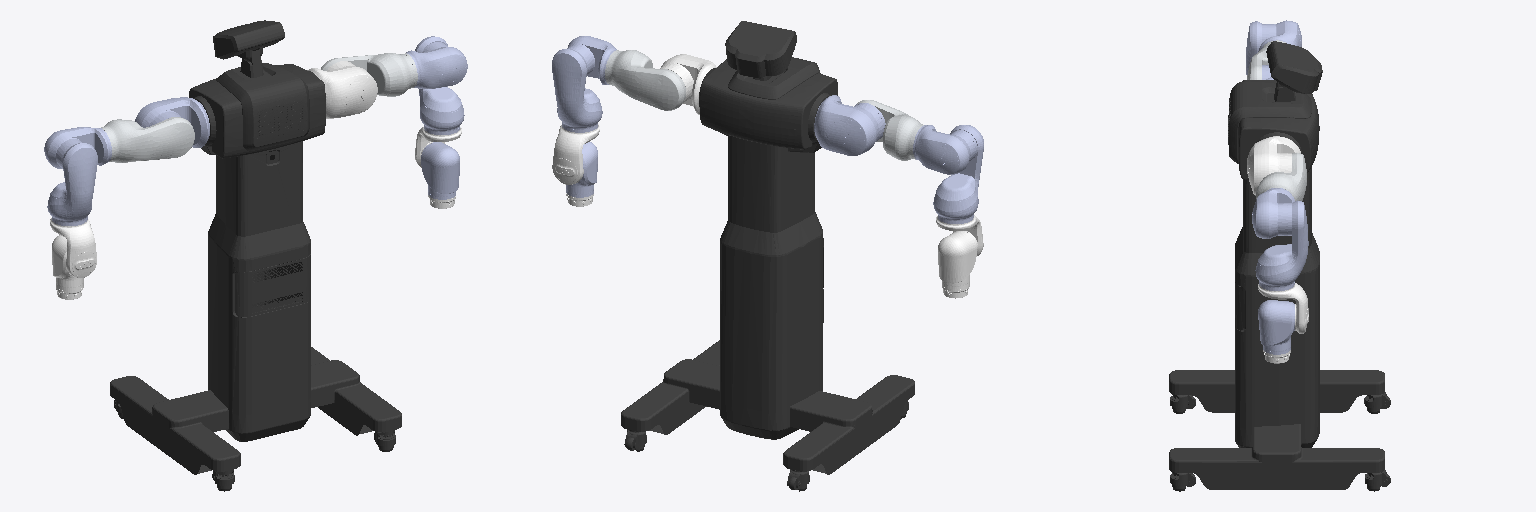
The robot description file, URDF, robot "Dsc5":
<?xml version="1.0" encoding="utf-8"?>
<!-- This URDF was automatically created by SolidWorks to URDF Exporter! Originally created by [author] ([email redacted]) 
     Commit Version: 1.6.0-1-g15f4949  Build Version: 1.6.7594.29634
     For more information, please see http://wiki.ros.org/sw_urdf_exporter -->
<robot
  name="Dsc5">
  <link
    name="base_link">
    <inertial>
      <origin
        xyz="-2.33471583537977E-06 -0.00662907239788245 1.33004670421342"
        rpy="0 0 0" />
      <mass
        value="25.8577669048994" />
      <inertia
        ixx="0.267014137924139"
        ixy="-1.36584455425003E-05"
        ixz="-4.2469044271823E-07"
        iyy="0.472244407235779"
        iyz="-5.34065558451017E-05"
        izz="0.549554614712028" />
    </inertial>
    <visual>
      <origin
        xyz="0 0 0"
        rpy="0 0 0" />
      <geometry>
        <mesh
          filename="package://Dsc5/meshes/base_link.STL" />
      </geometry>
      <material
        name="">
        <color
          rgba="0.298039215686275 0.298039215686275 0.298039215686275 1" />
      </material>
    </visual>
    <collision>
      <origin
        xyz="0 0 0"
        rpy="0 0 0" />
      <geometry>
        <mesh
          filename="package://Dsc5/meshes/base_link.STL" />
      </geometry>
    </collision>
  </link>
  <link
    name="rlink1">
    <inertial>
      <origin
        xyz="-3.48537472660837E-07 -0.0233818482234878 -0.0427896937411072"
        rpy="0 0 0" />
      <mass
        value="4.9503936266377" />
      <inertia
        ixx="0.0280328872192691"
        ixy="-1.0942187488335E-08"
        ixz="8.01870940106082E-08"
        iyy="0.0290016533494644"
        iyz="0.00182600668247838"
        izz="0.0175058159650953" />
    </inertial>
    <visual>
      <origin
        xyz="0 0 0"
        rpy="0 0 0" />
      <geometry>
        <mesh
          filename="package://Dsc5/meshes/rlink1.STL" />
      </geometry>
      <material
        name="">
        <color
          rgba="1 1 1 1" />
      </material>
    </visual>
    <collision>
      <origin
        xyz="0 0 0"
        rpy="0 0 0" />
      <geometry>
        <mesh
          filename="package://Dsc5/meshes/rlink1.STL" />
      </geometry>
    </collision>
  </link>
  <joint
    name="rjoint1"
    type="revolute">
    <origin
      xyz="0.385 0 1.33"
      rpy="0 1.5708 0" />
    <parent
      link="base_link" />
    <child
      link="rlink1" />
    <axis
      xyz="0 0 1" />
    <limit
      lower="0"
      upper="0"
      effort="0"
      velocity="0" />
  </joint>
  <link
    name="rlink2">
    <inertial>
      <origin
        xyz="8.53027319225319E-07 -0.132185395312596 -0.0316164146761528"
        rpy="0 0 0" />
      <mass
        value="3.79795466425453" />
      <inertia
        ixx="0.0345043951838881"
        ixy="-6.83453568770041E-07"
        ixz="3.61629286229262E-08"
        iyy="0.0138915011944337"
        iyz="0.00967376859925764"
        izz="0.0312407355826189" />
    </inertial>
    <visual>
      <origin
        xyz="0 0 0"
        rpy="0 0 0" />
      <geometry>
        <mesh
          filename="package://Dsc5/meshes/rlink2.STL" />
      </geometry>
      <material
        name="">
        <color
          rgba="0.898039215686275 0.913725490196078 0.925490196078431 1" />
      </material>
    </visual>
    <collision>
      <origin
        xyz="0 0 0"
        rpy="0 0 0" />
      <geometry>
        <mesh
          filename="package://Dsc5/meshes/rlink2.STL" />
      </geometry>
    </collision>
  </link>
  <joint
    name="rjoint2"
    type="revolute">
    <origin
      xyz="0 0 0"
      rpy="-1.5708 0 3.1416" />
    <parent
      link="rlink1" />
    <child
      link="rlink2" />
    <axis
      xyz="0 0 1" />
    <limit
      lower="0"
      upper="0"
      effort="0"
      velocity="0" />
  </joint>
  <link
    name="rlink3">
    <inertial>
      <origin
        xyz="-8.01697919161626E-07 -0.0193078273568117 -0.0351761512008308"
        rpy="0 0 0" />
      <mass
        value="2.90590329386609" />
      <inertia
        ixx="0.012506710918385"
        ixy="-3.18829086332697E-08"
        ixz="1.61628680644383E-07"
        iyy="0.0126795925744411"
        iyz="0.000667419670602496"
        izz="0.00682395851939506" />
    </inertial>
    <visual>
      <origin
        xyz="0 0 0"
        rpy="0 0 0" />
      <geometry>
        <mesh
          filename="package://Dsc5/meshes/rlink3.STL" />
      </geometry>
      <material
        name="">
        <color
          rgba="0.792156862745098 0.819607843137255 0.933333333333333 1" />
      </material>
    </visual>
    <collision>
      <origin
        xyz="0 0 0"
        rpy="0 0 0" />
      <geometry>
        <mesh
          filename="package://Dsc5/meshes/rlink3.STL" />
      </geometry>
    </collision>
  </link>
  <joint
    name="rjoint3"
    type="revolute">
    <origin
      xyz="0 -0.4 0"
      rpy="-1.5708 0 3.1416" />
    <parent
      link="rlink2" />
    <child
      link="rlink3" />
    <axis
      xyz="0 0 1" />
    <limit
      lower="0"
      upper="0"
      effort="0"
      velocity="0" />
  </joint>
  <link
    name="rlink4">
    <inertial>
      <origin
        xyz="-0.144257090671159 -9.85621058857689E-06 -0.0330829693859012"
        rpy="0 0 0" />
      <mass
        value="3.62743871363849" />
      <inertia
        ixx="0.0129758721943285"
        ixy="-2.58330084453541E-06"
        ixz="0.0089132335031844"
        iyy="0.0321838755377905"
        iyz="2.55052560667335E-08"
        izz="0.0283162014026305" />
    </inertial>
    <visual>
      <origin
        xyz="0 0 0"
        rpy="0 0 0" />
      <geometry>
        <mesh
          filename="package://Dsc5/meshes/rlink4.STL" />
      </geometry>
      <material
        name="">
        <color
          rgba="0.792156862745098 0.819607843137255 0.933333333333333 1" />
      </material>
    </visual>
    <collision>
      <origin
        xyz="0 0 0"
        rpy="0 0 0" />
      <geometry>
        <mesh
          filename="package://Dsc5/meshes/rlink4.STL" />
      </geometry>
    </collision>
  </link>
  <joint
    name="rjoint4"
    type="revolute">
    <origin
      xyz="0 0 0"
      rpy="-1.5708 0 3.1416" />
    <parent
      link="rlink3" />
    <child
      link="rlink4" />
    <axis
      xyz="0 0 -1" />
    <limit
      lower="0"
      upper="0"
      effort="0"
      velocity="0" />
  </joint>
  <link
    name="rlink5">
    <inertial>
      <origin
        xyz="5.73325782216028E-06 0.0539256625097546 -0.0673965611550317"
        rpy="0 0 0" />
      <mass
        value="1.22777453272549" />
      <inertia
        ixx="0.00671987251306287"
        ixy="-1.7302687479737E-07"
        ixz="-4.00366572180475E-07"
        iyy="0.00522041312928112"
        iyz="-0.0023320996856893"
        izz="0.00406763138318156" />
    </inertial>
    <visual>
      <origin
        xyz="0 0 0"
        rpy="0 0 0" />
      <geometry>
        <mesh
          filename="package://Dsc5/meshes/rlink5.STL" />
      </geometry>
      <material
        name="">
        <color
          rgba="1 1 1 1" />
      </material>
    </visual>
    <collision>
      <origin
        xyz="0 0 0"
        rpy="0 0 0" />
      <geometry>
        <mesh
          filename="package://Dsc5/meshes/rlink5.STL" />
      </geometry>
    </collision>
  </link>
  <joint
    name="rjoint5"
    type="revolute">
    <origin
      xyz="-0.4 0 0"
      rpy="-1.5708 0 1.5708" />
    <parent
      link="rlink4" />
    <child
      link="rlink5" />
    <axis
      xyz="0 0 -1" />
    <limit
      lower="0"
      upper="0"
      effort="0"
      velocity="0" />
  </joint>
  <link
    name="rlink6">
    <inertial>
      <origin
        xyz="-3.6069089082158E-07 -0.0302648113567473 -0.000654424356794522"
        rpy="0 0 0" />
      <mass
        value="2.18349168254272" />
      <inertia
        ixx="0.0071110582460742"
        ixy="-1.28155589668657E-08"
        ixz="2.0793851567459E-08"
        iyy="0.00436647605709646"
        iyz="0.000217056908270871"
        izz="0.00649083623519741" />
    </inertial>
    <visual>
      <origin
        xyz="0 0 0"
        rpy="0 0 0" />
      <geometry>
        <mesh
          filename="package://Dsc5/meshes/rlink6.STL" />
      </geometry>
      <material
        name="">
        <color
          rgba="0.792156862745098 0.819607843137255 0.933333333333333 1" />
      </material>
    </visual>
    <collision>
      <origin
        xyz="0 0 0"
        rpy="0 0 0" />
      <geometry>
        <mesh
          filename="package://Dsc5/meshes/rlink6.STL" />
      </geometry>
    </collision>
  </link>
  <joint
    name="rjoint6"
    type="revolute">
    <origin
      xyz="0 0 0"
      rpy="-1.5708 0 -3.1416" />
    <parent
      link="rlink5" />
    <child
      link="rlink6" />
    <axis
      xyz="0 0 1" />
    <limit
      lower="0"
      upper="0"
      effort="0"
      velocity="0" />
  </joint>
  <link
    name="rlink7">
    <inertial>
      <origin
        xyz="-1.6115772992098E-05 -0.000141462244165972 -0.031877389713026"
        rpy="0 0 0" />
      <mass
        value="0.289031984022191" />
      <inertia
        ixx="0.000202802134225507"
        ixy="2.0837505013452E-10"
        ixz="1.07324494570627E-07"
        iyy="0.000203587280513312"
        iyz="1.58994797887414E-07"
        izz="0.000316585846451796" />
    </inertial>
    <visual>
      <origin
        xyz="0 0 0"
        rpy="0 0 0" />
      <geometry>
        <mesh
          filename="package://Dsc5/meshes/rlink7.STL" />
      </geometry>
      <material
        name="">
        <color
          rgba="1 1 1 1" />
      </material>
    </visual>
    <collision>
      <origin
        xyz="0 0 0"
        rpy="0 0 0" />
      <geometry>
        <mesh
          filename="package://Dsc5/meshes/rlink7.STL" />
      </geometry>
    </collision>
  </link>
  <joint
    name="rjoint7"
    type="revolute">
    <origin
      xyz="0 -0.1805 0"
      rpy="1.5708 0 0" />
    <parent
      link="rlink6" />
    <child
      link="rlink7" />
    <axis
      xyz="0 0 -1" />
    <limit
      lower="0"
      upper="0"
      effort="0"
      velocity="0" />
  </joint>
  <link
    name="llink1">
    <inertial>
      <origin
        xyz="-3.48534555216773E-07 -0.0233818482203476 -0.0427896937411069"
        rpy="0 0 0" />
      <mass
        value="4.95039362663772" />
      <inertia
        ixx="0.0280328872192692"
        ixy="-1.09421874361309E-08"
        ixz="8.0187093968398E-08"
        iyy="0.0290016533494645"
        iyz="0.00182600668247842"
        izz="0.0175058159650954" />
    </inertial>
    <visual>
      <origin
        xyz="0 0 0"
        rpy="0 0 0" />
      <geometry>
        <mesh
          filename="package://Dsc5/meshes/llink1.STL" />
      </geometry>
      <material
        name="">
        <color
          rgba="0.792156862745098 0.819607843137255 0.933333333333333 1" />
      </material>
    </visual>
    <collision>
      <origin
        xyz="0 0 0"
        rpy="0 0 0" />
      <geometry>
        <mesh
          filename="package://Dsc5/meshes/llink1.STL" />
      </geometry>
    </collision>
  </link>
  <joint
    name="ljoint1"
    type="revolute">
    <origin
      xyz="-0.385 0 1.33"
      rpy="3.1416 1.5708 0" />
    <parent
      link="base_link" />
    <child
      link="llink1" />
    <axis
      xyz="0 0 -1" />
    <limit
      lower="0"
      upper="0"
      effort="0"
      velocity="0" />
  </joint>
  <link
    name="llink2">
    <inertial>
      <origin
        xyz="8.57088727768129E-07 -0.13218539479818 -0.0316164152507732"
        rpy="0 0 0" />
      <mass
        value="3.79795439943558" />
      <inertia
        ixx="0.0345043950633951"
        ixy="-6.831545078089E-07"
        ixz="3.59263239475119E-08"
        iyy="0.0138915001045365"
        iyz="0.00967376854022875"
        izz="0.0312407342738061" />
    </inertial>
    <visual>
      <origin
        xyz="0 0 0"
        rpy="0 0 0" />
      <geometry>
        <mesh
          filename="package://Dsc5/meshes/llink2.STL" />
      </geometry>
      <material
        name="">
        <color
          rgba="0.898039215686275 0.913725490196078 0.925490196078431 1" />
      </material>
    </visual>
    <collision>
      <origin
        xyz="0 0 0"
        rpy="0 0 0" />
      <geometry>
        <mesh
          filename="package://Dsc5/meshes/llink2.STL" />
      </geometry>
    </collision>
  </link>
  <joint
    name="ljoint2"
    type="revolute">
    <origin
      xyz="0 0 0"
      rpy="-1.5708 0 -3.1416" />
    <parent
      link="llink1" />
    <child
      link="llink2" />
    <axis
      xyz="0 0 1" />
    <limit
      lower="0"
      upper="0"
      effort="0"
      velocity="0" />
  </joint>
  <link
    name="llink3">
    <inertial>
      <origin
        xyz="-8.01697918939581E-07 -0.0193078273536719 -0.035176151200831"
        rpy="0 0 0" />
      <mass
        value="2.90590329386612" />
      <inertia
        ixx="0.0125067109183852"
        ixy="-3.18829086345302E-08"
        ixz="1.61628680721092E-07"
        iyy="0.0126795925744412"
        iyz="0.000667419670602472"
        izz="0.00682395851939513" />
    </inertial>
    <visual>
      <origin
        xyz="0 0 0"
        rpy="0 0 0" />
      <geometry>
        <mesh
          filename="package://Dsc5/meshes/llink3.STL" />
      </geometry>
      <material
        name="">
        <color
          rgba="0.792156862745098 0.819607843137255 0.933333333333333 1" />
      </material>
    </visual>
    <collision>
      <origin
        xyz="0 0 0"
        rpy="0 0 0" />
      <geometry>
        <mesh
          filename="package://Dsc5/meshes/llink3.STL" />
      </geometry>
    </collision>
  </link>
  <joint
    name="ljoint3"
    type="revolute">
    <origin
      xyz="0 -0.4 0"
      rpy="-1.5708 0 3.1416" />
    <parent
      link="llink2" />
    <child
      link="llink3" />
    <axis
      xyz="0 0 -1" />
    <limit
      lower="0"
      upper="0"
      effort="0"
      velocity="0" />
  </joint>
  <link
    name="llink4">
    <inertial>
      <origin
        xyz="-0.144257090671159 -9.85621058846586E-06 -0.0330829693890409"
        rpy="0 0 0" />
      <mass
        value="3.6274387136385" />
      <inertia
        ixx="0.0129758721958824"
        ixy="-2.58329914905676E-06"
        ixz="0.0089132335030002"
        iyy="0.0321838755383158"
        iyz="2.55050844185509E-08"
        izz="0.028316201404925" />
    </inertial>
    <visual>
      <origin
        xyz="0 0 0"
        rpy="0 0 0" />
      <geometry>
        <mesh
          filename="package://Dsc5/meshes/llink4.STL" />
      </geometry>
      <material
        name="">
        <color
          rgba="0.792156862745098 0.819607843137255 0.933333333333333 1" />
      </material>
    </visual>
    <collision>
      <origin
        xyz="0 0 0"
        rpy="0 0 0" />
      <geometry>
        <mesh
          filename="package://Dsc5/meshes/llink4.STL" />
      </geometry>
    </collision>
  </link>
  <joint
    name="ljoint4"
    type="revolute">
    <origin
      xyz="0 0 0"
      rpy="-1.5708 0 3.1416" />
    <parent
      link="llink3" />
    <child
      link="llink4" />
    <axis
      xyz="0 0 -1" />
    <limit
      lower="0"
      upper="0"
      effort="0"
      velocity="0" />
  </joint>
  <link
    name="llink5">
    <inertial>
      <origin
        xyz="5.73532288883349E-06 0.0539158105053979 -0.0673965526908485"
        rpy="0 0 0" />
      <mass
        value="1.22777421461757" />
      <inertia
        ixx="0.00671987162846365"
        ixy="-1.73133868954839E-07"
        ixz="-4.00335180443063E-07"
        iyy="0.00522041225072359"
        iyz="-0.00233209954708952"
        izz="0.00406763025471862" />
    </inertial>
    <visual>
      <origin
        xyz="0 0 0"
        rpy="0 0 0" />
      <geometry>
        <mesh
          filename="package://Dsc5/meshes/llink5.STL" />
      </geometry>
      <material
        name="">
        <color
          rgba="1 1 1 1" />
      </material>
    </visual>
    <collision>
      <origin
        xyz="0 0 0"
        rpy="0 0 0" />
      <geometry>
        <mesh
          filename="package://Dsc5/meshes/llink5.STL" />
      </geometry>
    </collision>
  </link>
  <joint
    name="ljoint5"
    type="revolute">
    <origin
      xyz="-0.4 0 0"
      rpy="-1.5708 0 1.5708" />
    <parent
      link="llink4" />
    <child
      link="llink5" />
    <axis
      xyz="0 0 1" />
    <limit
      lower="0"
      upper="0"
      effort="0"
      velocity="0" />
  </joint>
  <link
    name="llink6">
    <inertial>
      <origin
        xyz="-3.60690891154647E-07 -0.0302648113567476 -0.000644568673573308"
        rpy="0 0 0" />
      <mass
        value="2.1834916825427" />
      <inertia
        ixx="0.00711105824607415"
        ixy="-1.28155589872999E-08"
        ixz="2.07938515571978E-08"
        iyy="0.00436647605709643"
        iyz="0.00021705690827092"
        izz="0.00649083623519734" />
    </inertial>
    <visual>
      <origin
        xyz="0 0 0"
        rpy="0 0 0" />
      <geometry>
        <mesh
          filename="package://Dsc5/meshes/llink6.STL" />
      </geometry>
      <material
        name="">
        <color
          rgba="1 1 1 1" />
      </material>
    </visual>
    <collision>
      <origin
        xyz="0 0 0"
        rpy="0 0 0" />
      <geometry>
        <mesh
          filename="package://Dsc5/meshes/llink6.STL" />
      </geometry>
    </collision>
  </link>
  <joint
    name="ljoint6"
    type="revolute">
    <origin
      xyz="0 0 0"
      rpy="-1.5708 0 -3.1416" />
    <parent
      link="llink5" />
    <child
      link="llink6" />
    <axis
      xyz="0 0 1" />
    <limit
      lower="0"
      upper="0"
      effort="0"
      velocity="0" />
  </joint>
  <link
    name="llink7">
    <inertial>
      <origin
        xyz="1.611577299232E-05 0.000131606557804023 -0.031877389713026"
        rpy="0 0 0" />
      <mass
        value="0.289031984022191" />
      <inertia
        ixx="0.000202802134225507"
        ixy="2.08375050252559E-10"
        ixz="-1.07324494570795E-07"
        iyy="0.000203587280513312"
        iyz="-1.58994797887464E-07"
        izz="0.000316585846451796" />
    </inertial>
    <visual>
      <origin
        xyz="0 0 0"
        rpy="0 0 0" />
      <geometry>
        <mesh
          filename="package://Dsc5/meshes/llink7.STL" />
      </geometry>
      <material
        name="">
        <color
          rgba="1 1 1 1" />
      </material>
    </visual>
    <collision>
      <origin
        xyz="0 0 0"
        rpy="0 0 0" />
      <geometry>
        <mesh
          filename="package://Dsc5/meshes/llink7.STL" />
      </geometry>
    </collision>
  </link>
  <joint
    name="ljoint7"
    type="revolute">
    <origin
      xyz="0 -0.1805 0"
      rpy="-1.5708 0 -3.1416" />
    <parent
      link="llink6" />
    <child
      link="llink7" />
    <axis
      xyz="0 0 -1" />
    <limit
      lower="0"
      upper="0"
      effort="0"
      velocity="0" />
  </joint>
</robot>

--- Render facts (derived) ---
3 views of the same robot in one strip: view 1: azimuth 30°, elevation 25°; view 2: azimuth 150°, elevation 25°; view 3: azimuth 270°, elevation 25° (orthographic).
Robot: Dsc5 — 15 links, 14 joints (14 revolute); root link base_link; default pose: every joint at zero.
Visible links, largest first — view 1: base_link, llink2, llink4, rlink1, rlink2, rlink4, rlink3, rlink6, llink1, llink3, llink5, llink6 (+1 smaller); view 2: base_link, llink1, rlink2, rlink4, llink4, llink3, llink6, llink2, rlink5, rlink1, rlink3, rlink6 (+1 smaller); view 3: base_link, rlink4, rlink3, rlink1, rlink6, rlink2, rlink5, llink3.
Boxes of the visible links, box(x1,y1,x2,y2) form: base_link: box(110, 20, 401, 491); llink2: box(101, 117, 194, 162); llink4: box(47, 143, 97, 225); rlink1: box(307, 61, 377, 118); rlink2: box(321, 53, 417, 96); rlink4: box(415, 36, 464, 134); rlink3: box(406, 42, 467, 88); rlink6: box(421, 142, 459, 199); llink1: box(135, 97, 209, 147); llink3: box(44, 127, 111, 168); llink5: box(50, 218, 96, 277); llink6: box(52, 235, 83, 290); base_link: box(621, 21, 914, 491); llink1: box(814, 95, 885, 155); rlink2: box(605, 50, 685, 110); rlink4: box(552, 49, 602, 132); llink4: box(933, 125, 983, 223); llink3: box(913, 125, 977, 174); llink6: box(938, 231, 976, 288); llink2: box(857, 100, 923, 160); rlink5: box(552, 124, 599, 184); rlink1: box(660, 54, 716, 114); rlink3: box(567, 36, 616, 84); rlink6: box(566, 142, 597, 197); base_link: box(1169, 41, 1390, 491); rlink4: box(1255, 200, 1308, 290); rlink3: box(1252, 188, 1294, 238); rlink1: box(1247, 136, 1300, 194); rlink6: box(1258, 300, 1294, 354); rlink2: box(1255, 153, 1306, 200); rlink5: box(1258, 283, 1308, 333); llink3: box(1258, 20, 1301, 51).
Bounding box of the posed robot: 1.73 × 0.8215 × 1.62 m (x, y, z).
15 mesh visuals loaded from 15 distinct referenced files (15 binary STL).